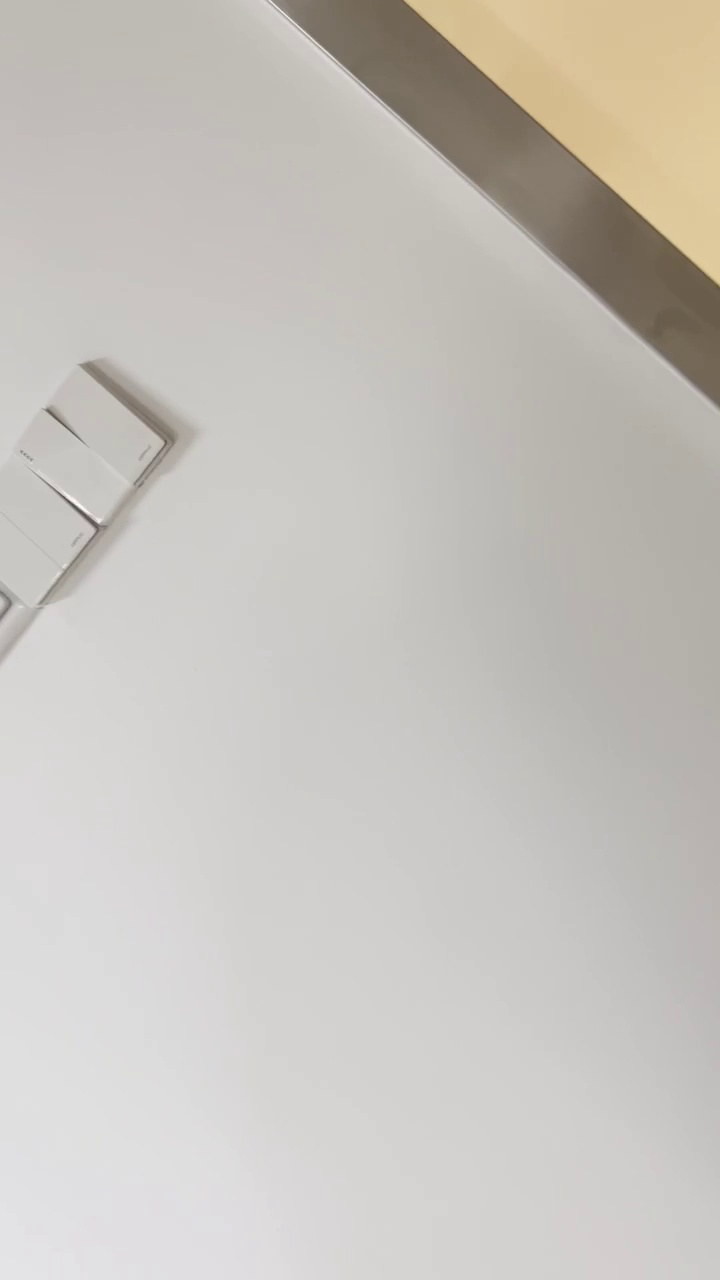button: (14, 364, 172, 519), (1, 458, 104, 614)
